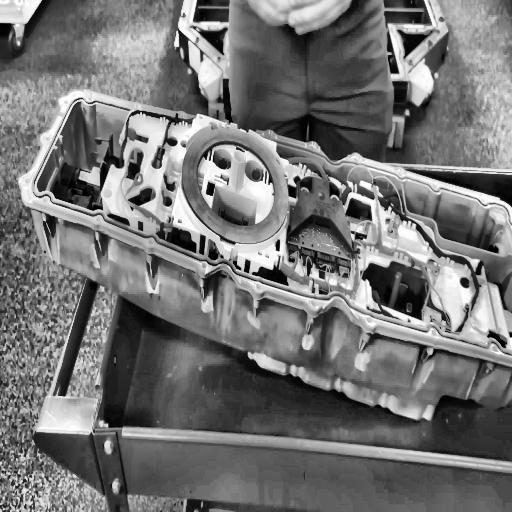bms_unit: (20, 85, 512, 425)
connector: (182, 125, 291, 244)
